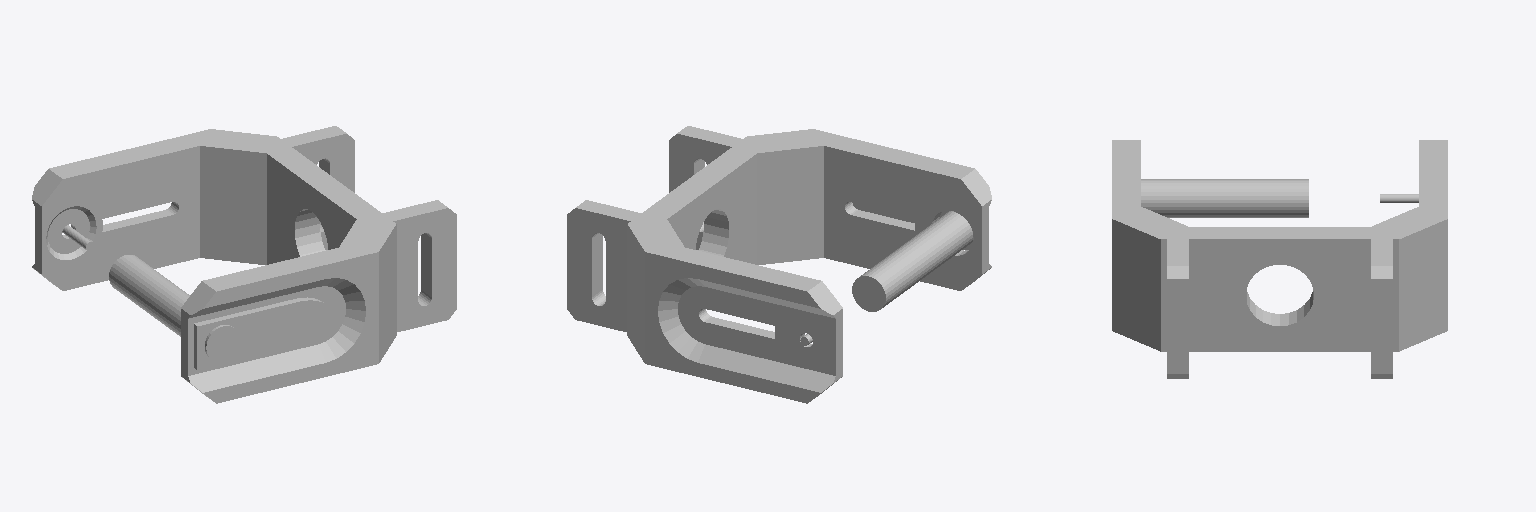
File: EDMO2_Arm.obj
3 views of the same model, side by side, from view 1: azimuth 30°, elevation 25°; view 2: azimuth 150°, elevation 25°; view 3: azimuth 270°, elevation 25° (orthographic).
Visible parts, largest first — view 1: Arm; view 2: Arm; view 3: Arm.
Part boxes in pixels (x1,y1,x2,y2): Arm: (32, 126, 456, 403); Arm: (567, 126, 991, 403); Arm: (1112, 140, 1447, 378).
Bounding box in the file's own units: 4.8 × 1.78 × 4.83.